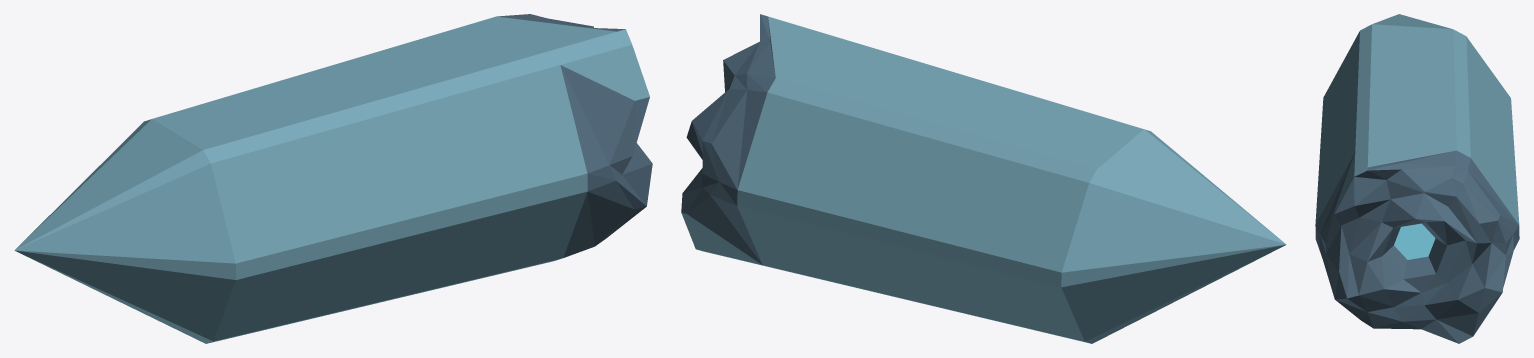
File: crystal-shard-9e0a83.glb
3 renders of one model, left to right at view 1: azimuth 30°, elevation 25°; view 2: azimuth 150°, elevation 25°; view 3: azimuth 270°, elevation 25°, orthographic. The views are drawn at different scales.
Visible parts, largest first — view 1: crystal-shard-body; view 2: crystal-shard-body; view 3: crystal-shard-body.
Boxes of the visible parts, x1,y1,x2,y2 form: crystal-shard-body: (14,14,652,343); crystal-shard-body: (681,14,1286,343); crystal-shard-body: (1315,14,1519,343).
Bounding box in the file's own units: 0.3893 × 0.1337 × 0.1438.
